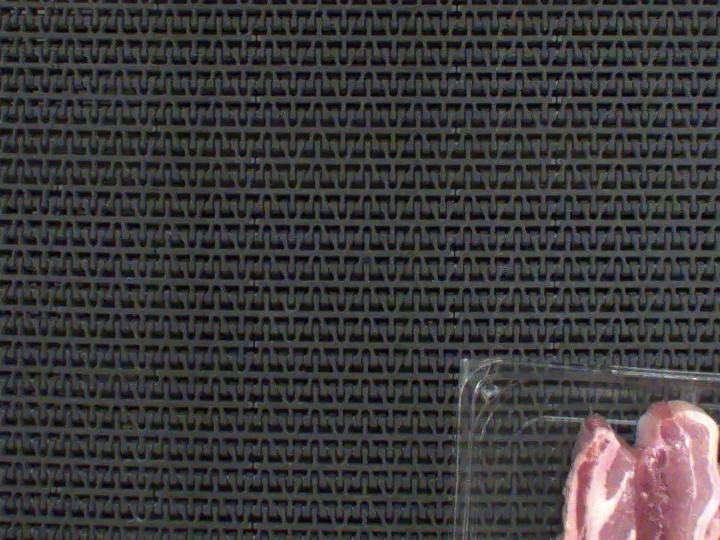packaging-error: (672, 371, 704, 410)
